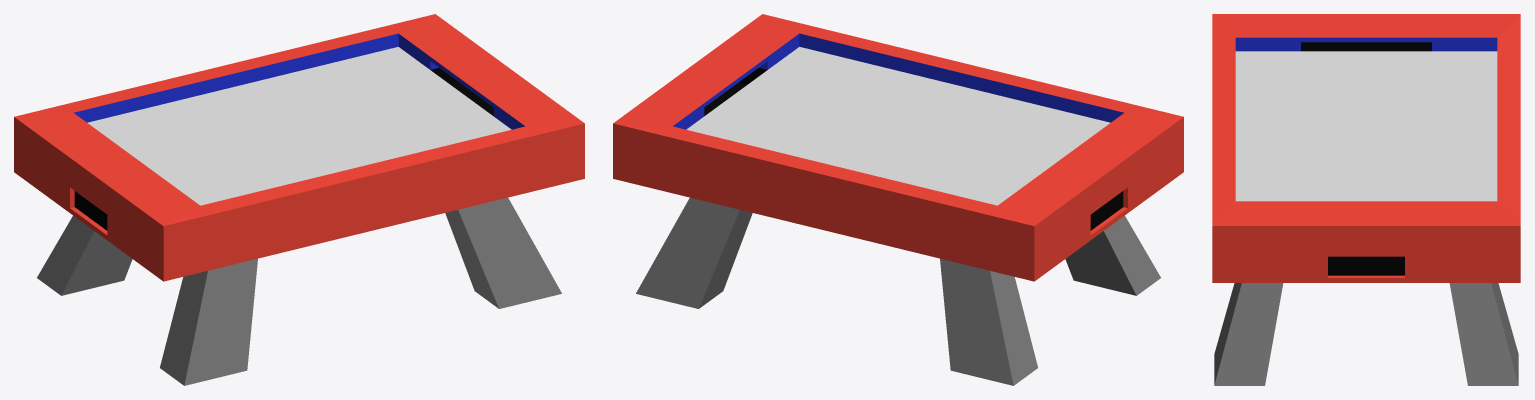
File: AirHockeyBoard.fbx
The picture shows the model from 3 angles, left to right: view 1: azimuth 30°, elevation 25°; view 2: azimuth 150°, elevation 25°; view 3: azimuth 270°, elevation 25°; orthographic projection. The views are drawn at different scales.
Visible parts, largest first — view 1: Cube; view 2: Cube; view 3: Cube.
Part boxes in pixels (<box>): Cube: <box>14,14,584,385</box>; Cube: <box>613,14,1183,385</box>; Cube: <box>1212,14,1520,385</box>.
Bounding box in the file's own units: 6.37 × 2.4 × 3.92.
